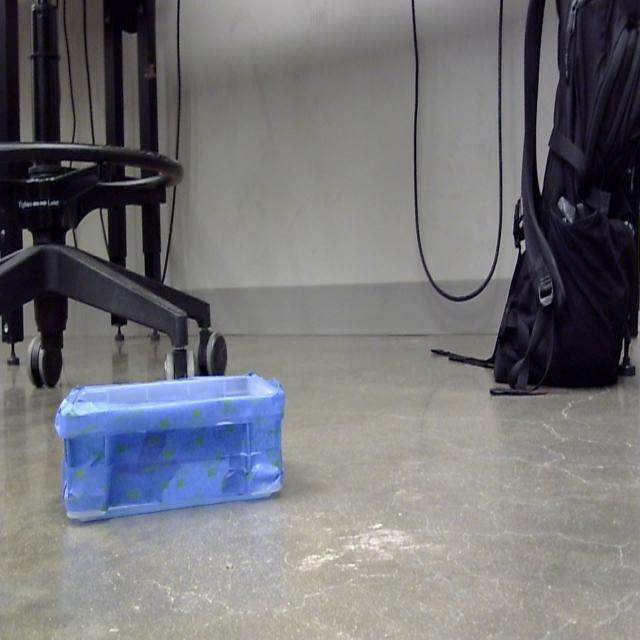bucket: (53, 372, 286, 526)
